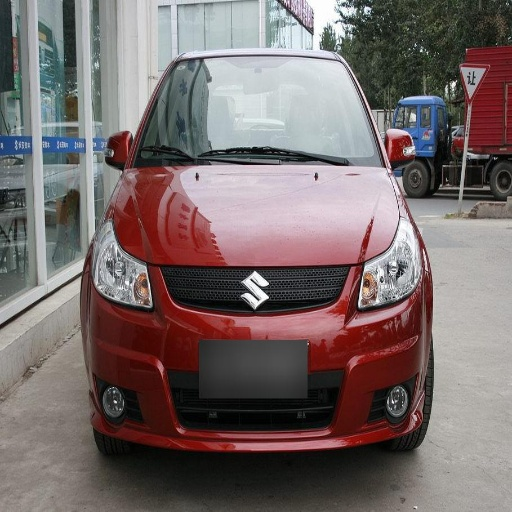front_bumper: (88, 263, 422, 451)
front_right_light: (87, 217, 154, 310)
hood: (113, 168, 400, 264)
